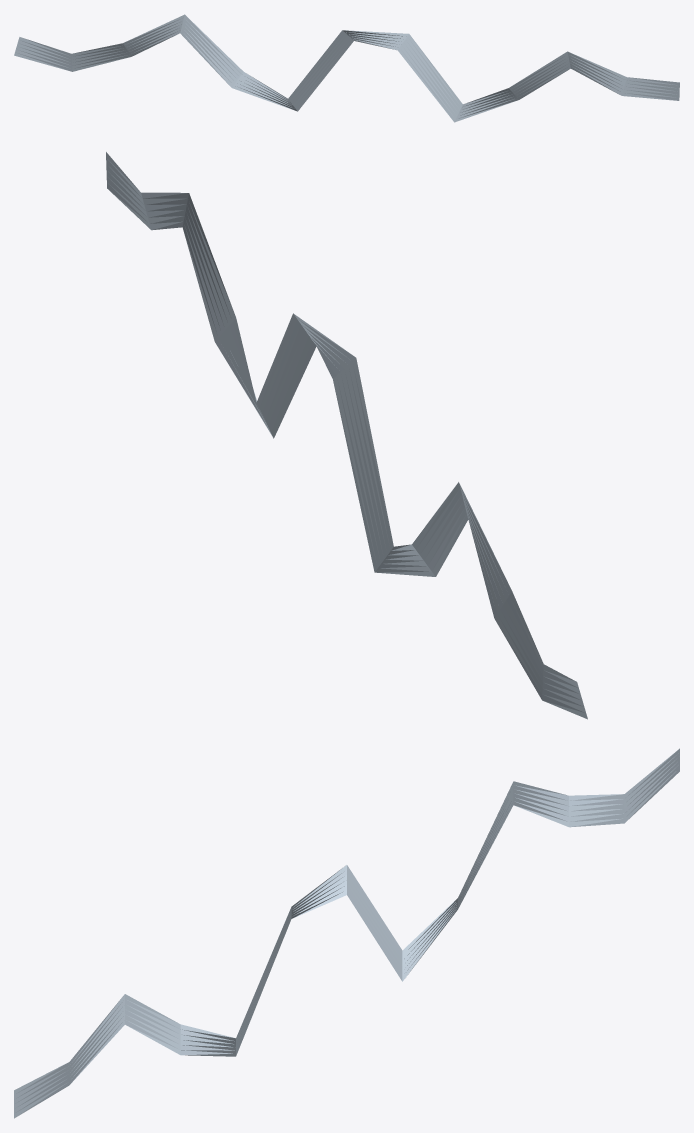
File: 2065_LightningCage_State_CageArc_3_0.fbx
3 renders of one model, top to bottom at view 1: azimuth 30°, elevation 25°; view 2: azimuth 150°, elevation 25°; view 3: azimuth 270°, elevation 25°, orthographic. The views are drawn at different scales.
Parts seen in each view (by area): view 1: PART_CageArc_3_0; view 2: PART_CageArc_3_0; view 3: PART_CageArc_3_0.
Boxes of the visible parts, x1,y1,x2,y2 form: PART_CageArc_3_0: (14,14,679,122); PART_CageArc_3_0: (106,152,587,719); PART_CageArc_3_0: (14,748,679,1118).
Size of the model in its own units: 61.92 by 11.77 by 50.23.
